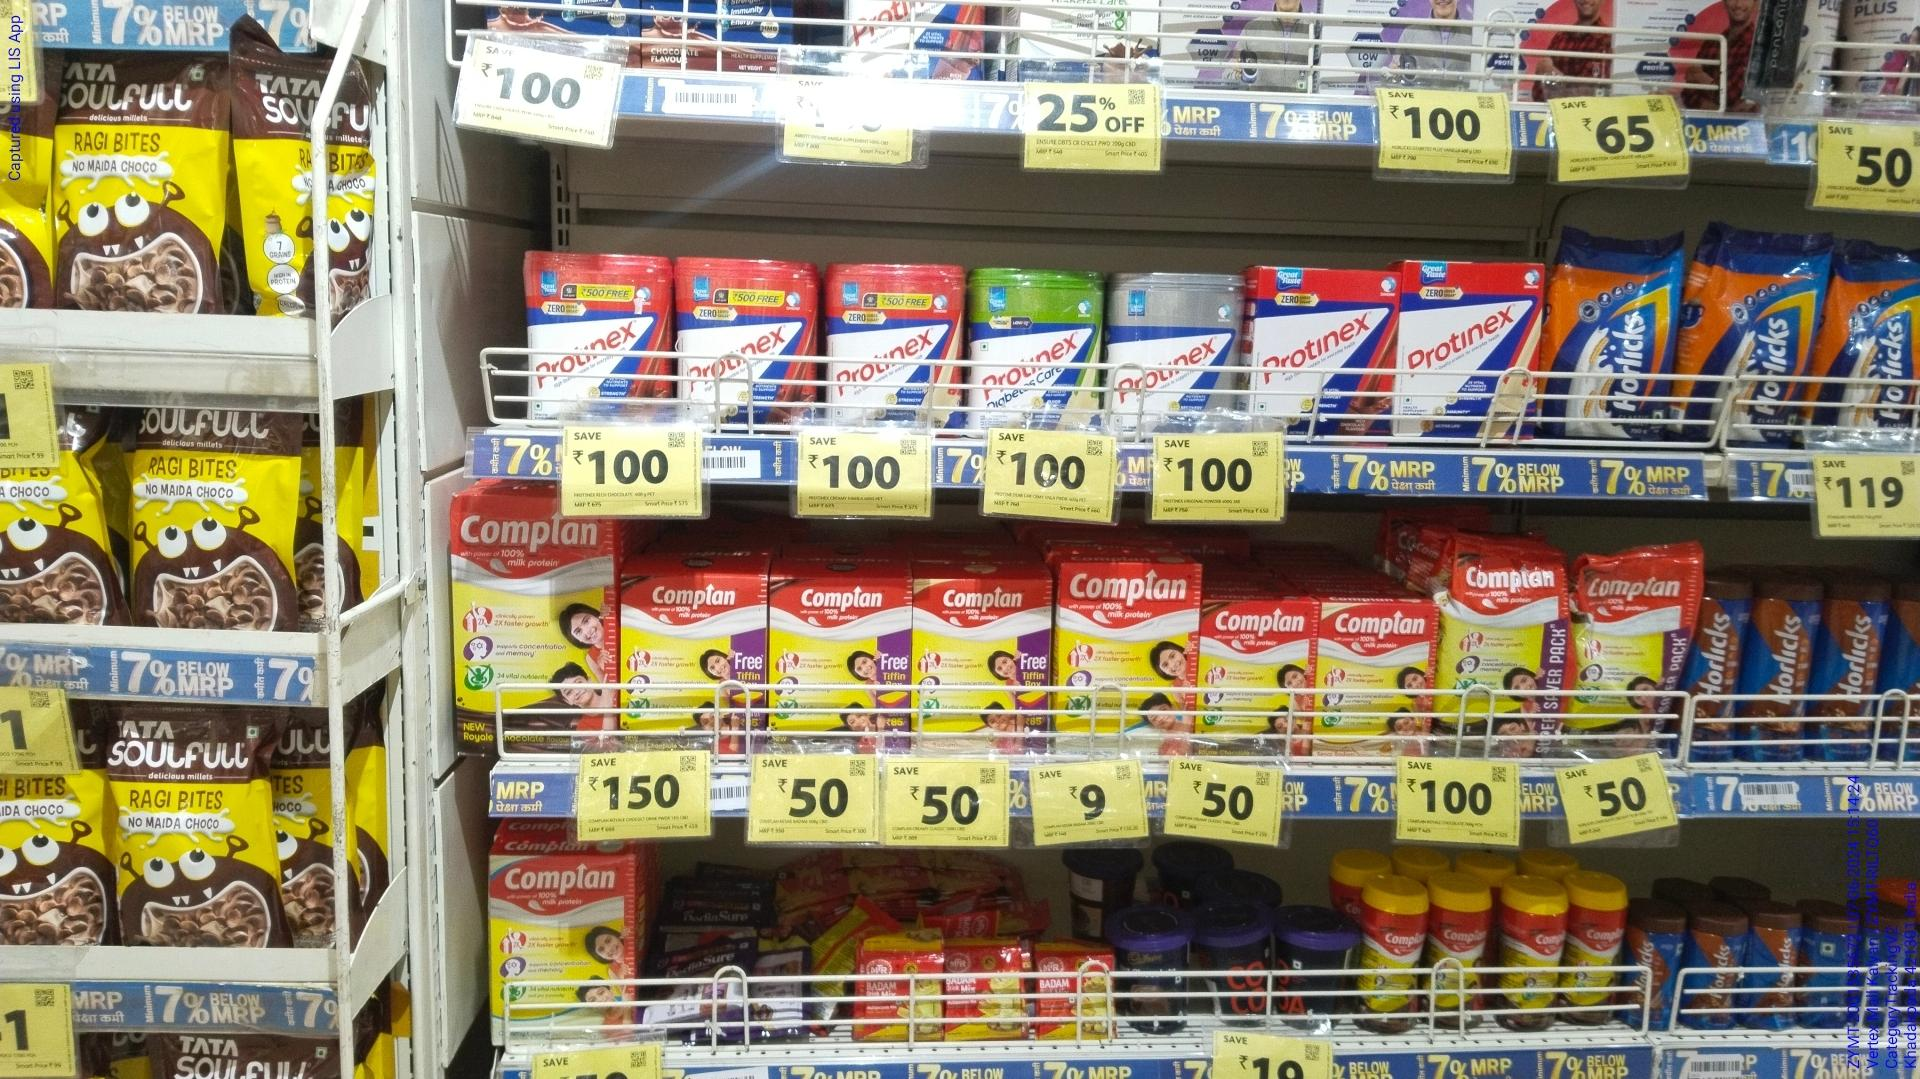PROTINEX_CHOCOLATE_400_G_JAR: (520, 251, 673, 414), (683, 270, 815, 421)
PROTINEX_ORIGINAL_400_G_JAR: (1105, 278, 1238, 418)
PROTINEX_VANILLA_400_G_JAR: (827, 269, 964, 423)
